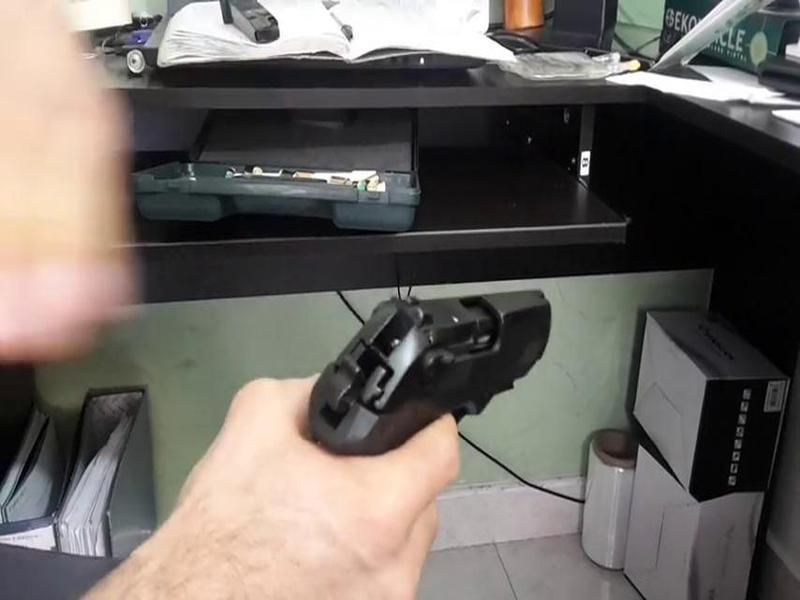Pistola: (291, 229, 577, 480)
